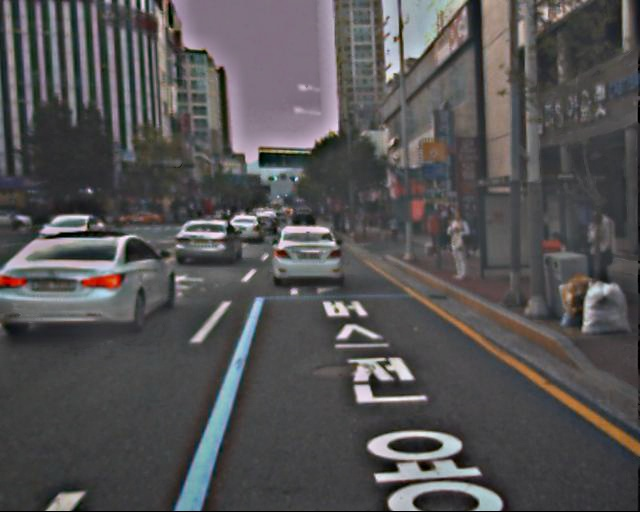person: (580, 203, 623, 309), (442, 205, 473, 281), (425, 205, 446, 256), (387, 213, 406, 244)
